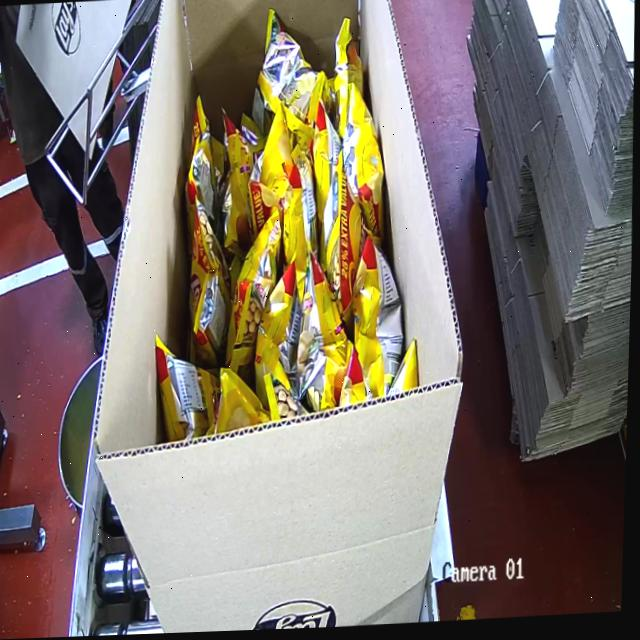SALTED: (149, 1, 418, 407)
